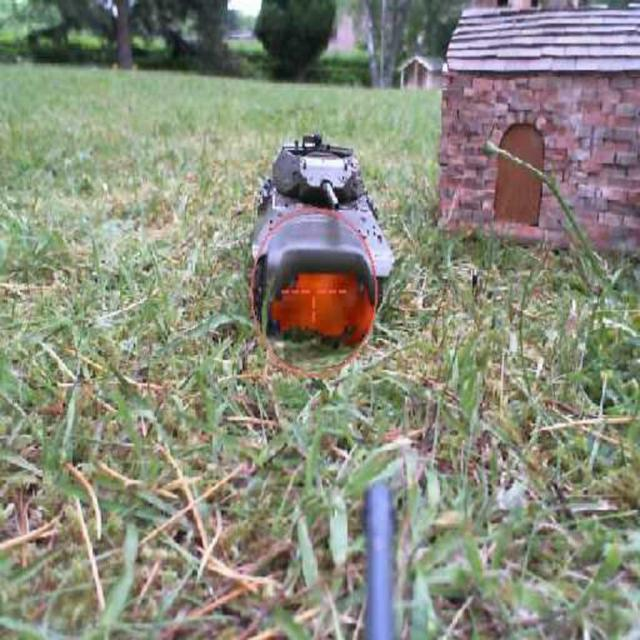tank: (246, 129, 396, 344)
